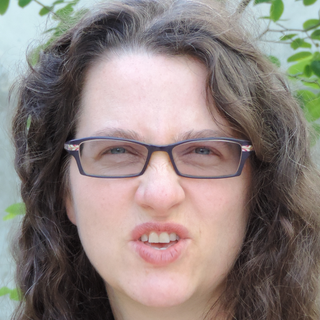eye: (88, 138, 143, 165), (175, 138, 229, 165)
